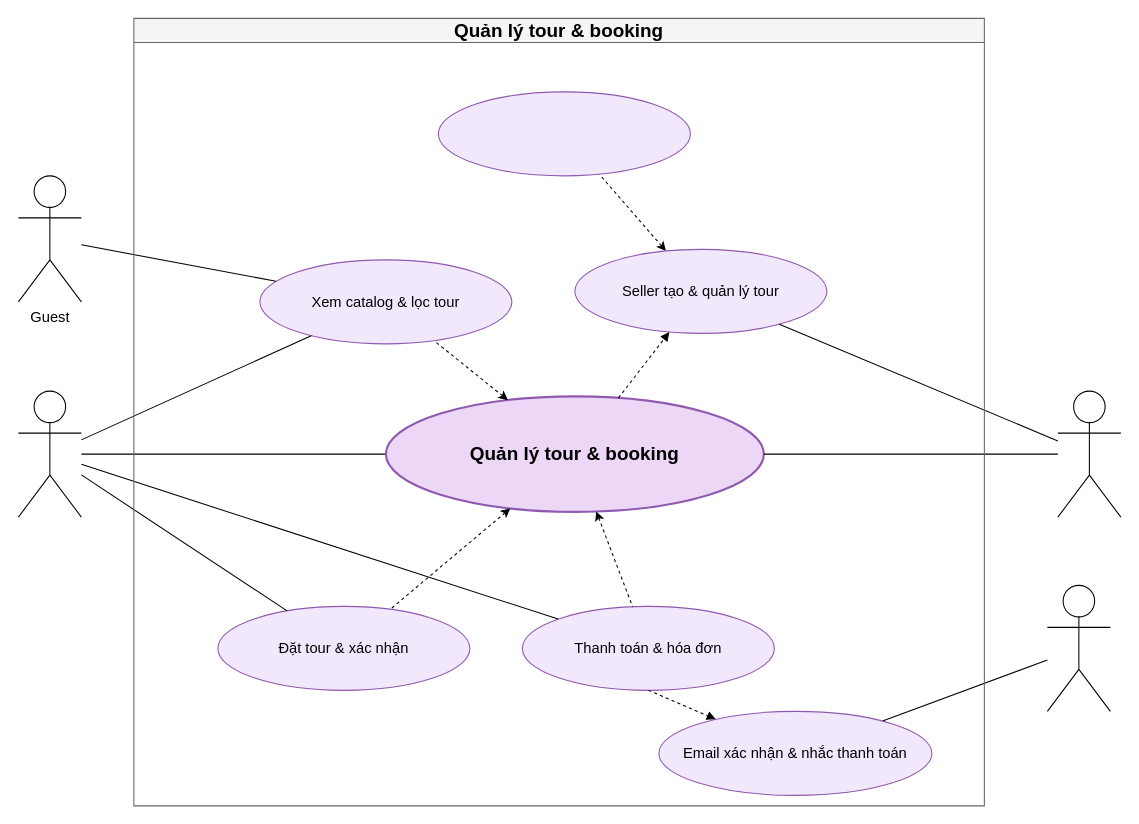
This 1139x824 diagram has some shape labels left out. The box of each missing label's shape, as (x1, y1, x2, y2) in pixels:
CRUD Tour: (437, 91, 690, 176)
Seller: (1057, 390, 1121, 517)
System: (1046, 584, 1110, 711)
User: (17, 390, 81, 517)
